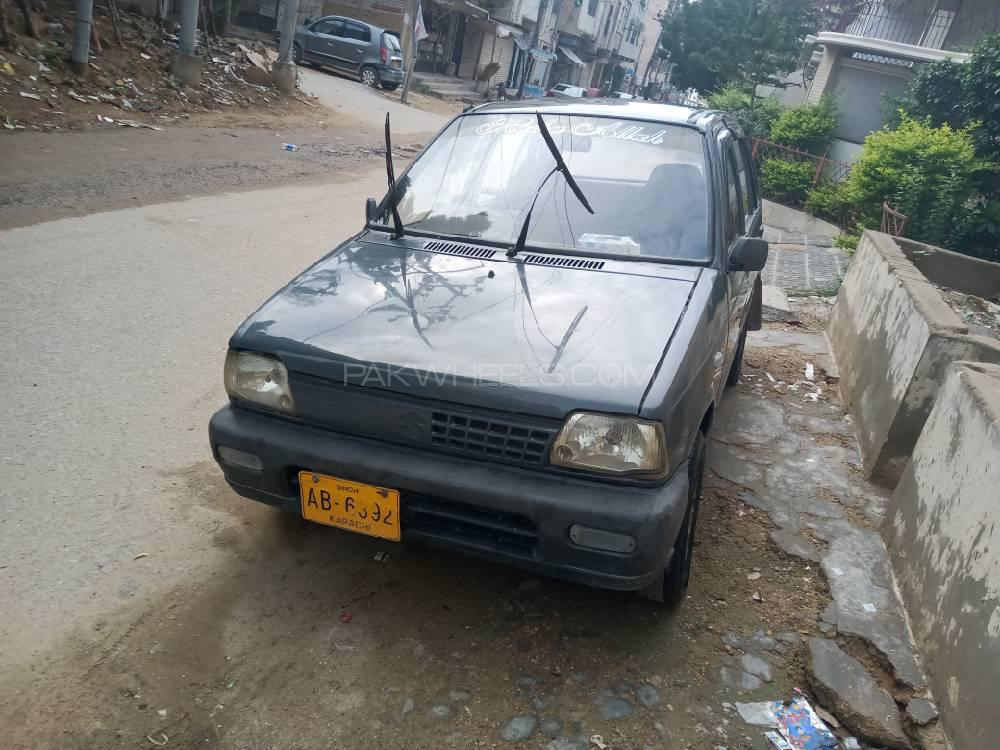license plate: (295, 473, 401, 537)
